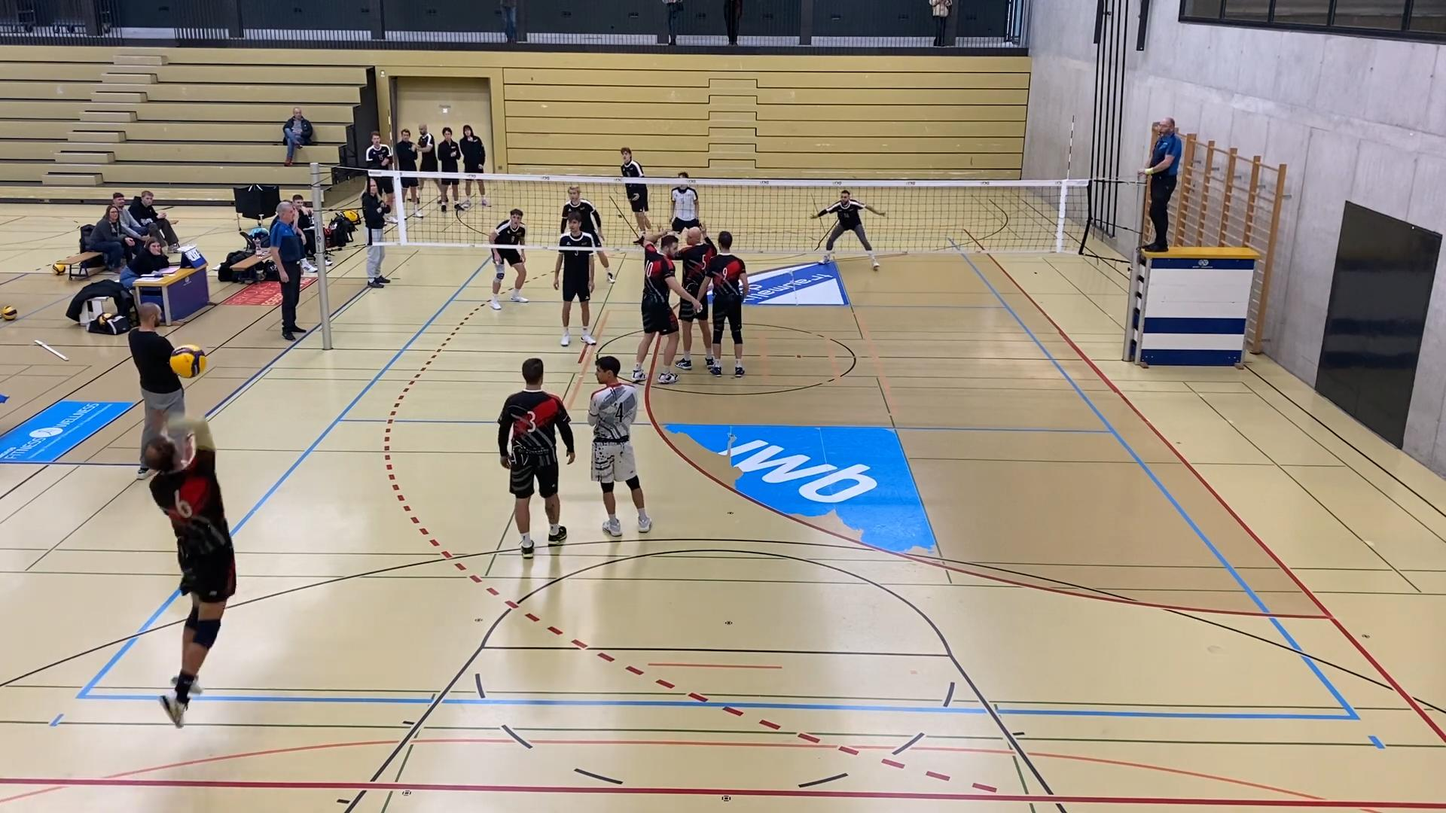battuta: (141, 413, 237, 727)
